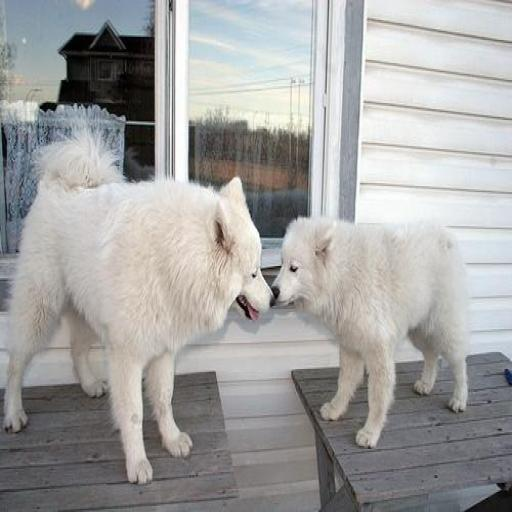dog_face: (207, 174, 267, 318), (273, 212, 340, 315)
